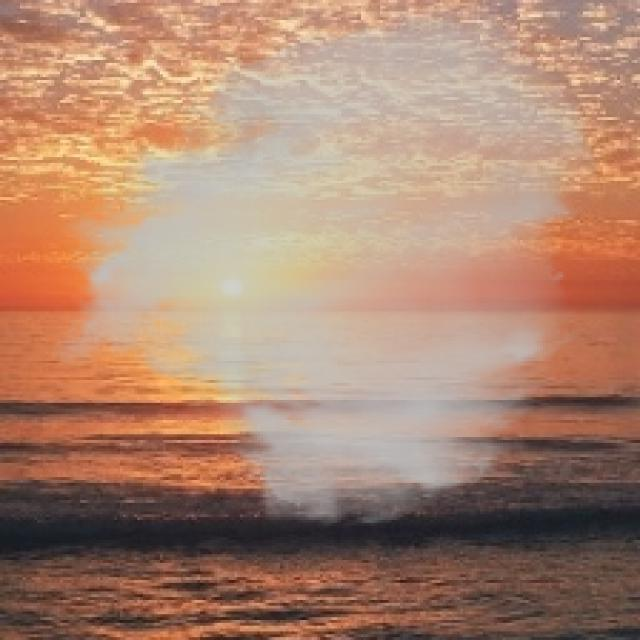smoke: (49, 3, 600, 531)
